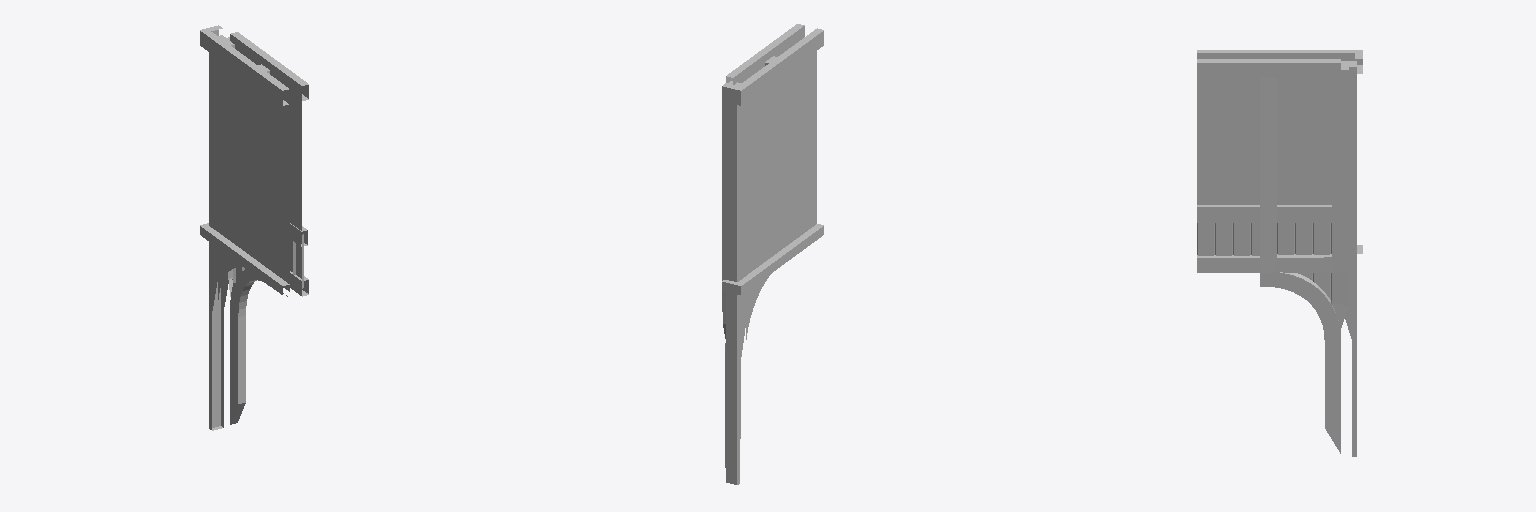
Rendered from Overhang_Side_WoodBrick_Long_R.obj.
3 views of the same model, side by side, from view 1: azimuth 30°, elevation 25°; view 2: azimuth 150°, elevation 25°; view 3: azimuth 270°, elevation 25° (orthographic).
Visible parts, largest first — view 1: Overhang_Side_WoodBrick_Long_R; view 2: Overhang_Side_WoodBrick_Long_R; view 3: Overhang_Side_WoodBrick_Long_R.
Boxes of the visible parts, x1=… form: Overhang_Side_WoodBrick_Long_R: x1=200, y1=25, x2=308, y2=430; Overhang_Side_WoodBrick_Long_R: x1=722, y1=24, x2=823, y2=484; Overhang_Side_WoodBrick_Long_R: x1=1197, y1=50, x2=1362, y2=456.
Size of the model in its own units: 0.4793 by 6.12 by 2.31.